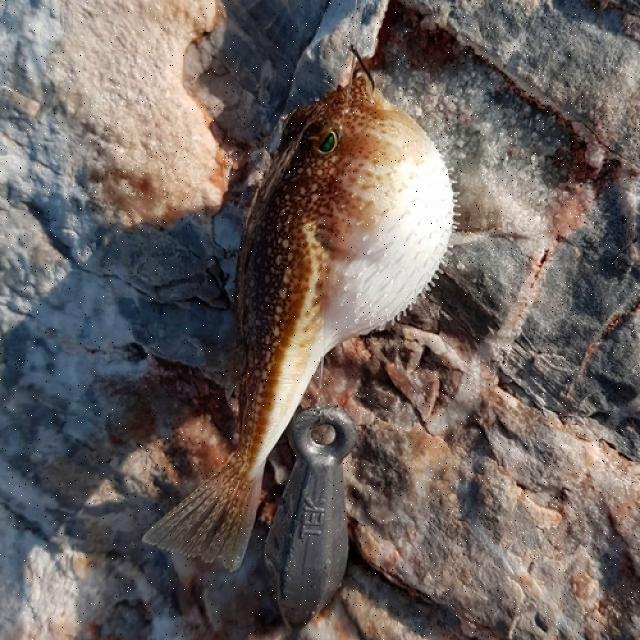Balik: (144, 75, 454, 570)
